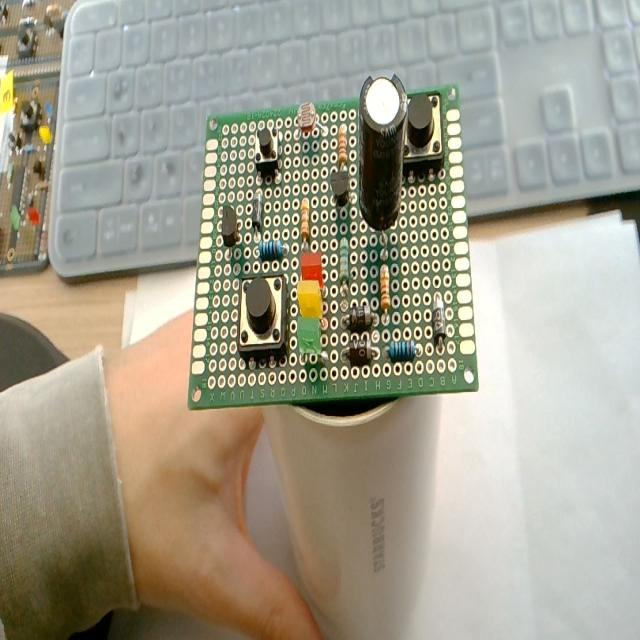Electrolytic capacitor: (354, 66, 409, 266)
cds: (290, 92, 327, 150)
diode: (427, 282, 452, 364), (340, 300, 380, 336), (338, 340, 382, 370), (249, 185, 265, 237)
led: (295, 311, 330, 374), (296, 274, 326, 325), (298, 248, 326, 300)
resistor: (385, 334, 424, 363), (375, 256, 391, 324), (297, 188, 314, 250), (252, 236, 290, 258), (335, 124, 349, 170)
switch: (234, 267, 292, 376), (398, 78, 448, 185), (250, 120, 282, 179)
transistor: (326, 164, 354, 218), (220, 200, 240, 266)
